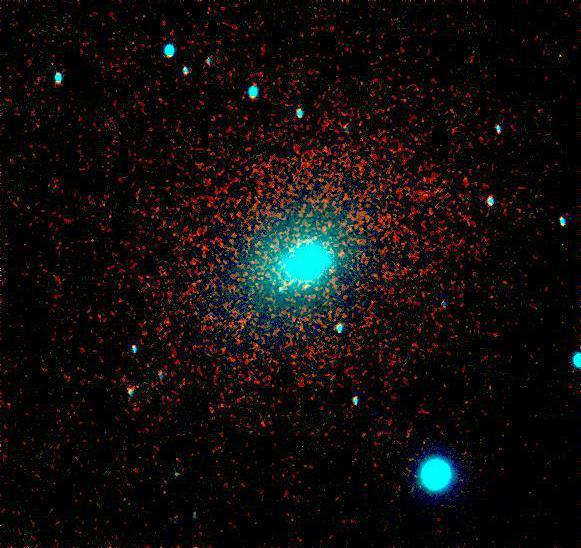star: (299, 225, 329, 255)
